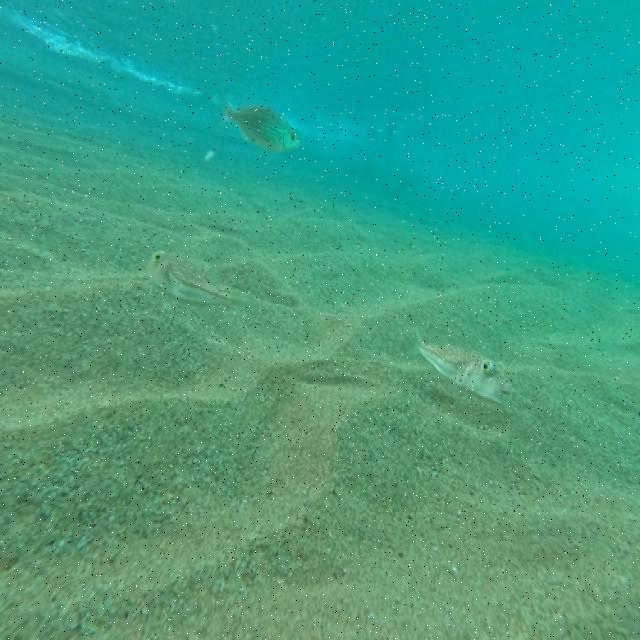Balik: (419, 338, 511, 402), (148, 251, 238, 305), (226, 106, 299, 151)
